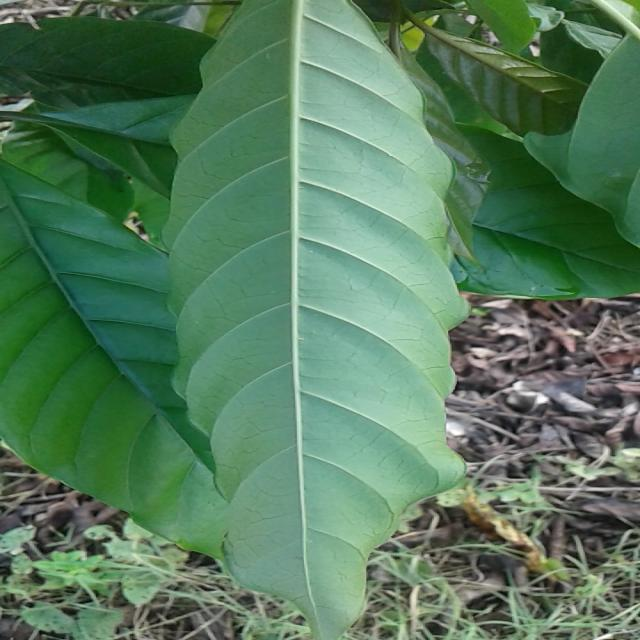Sanas: (163, 0, 486, 628)
